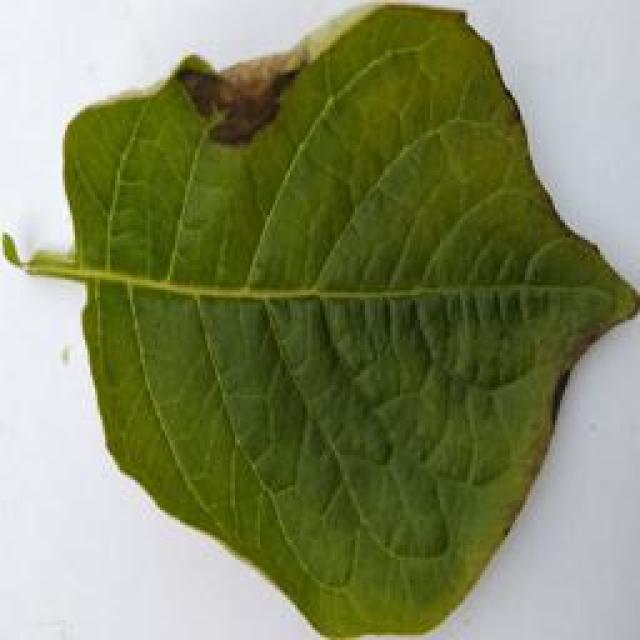Potato_Late_Blight: (8, 7, 628, 634)
